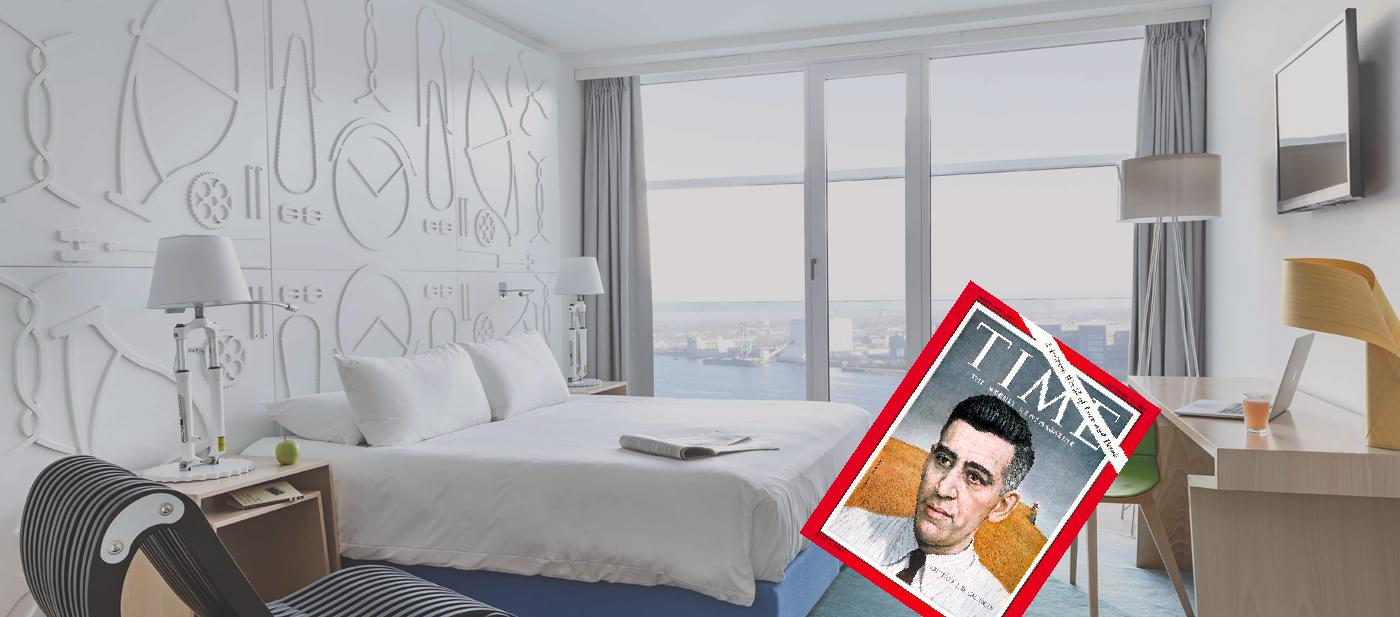times: (796, 278, 1164, 617)
